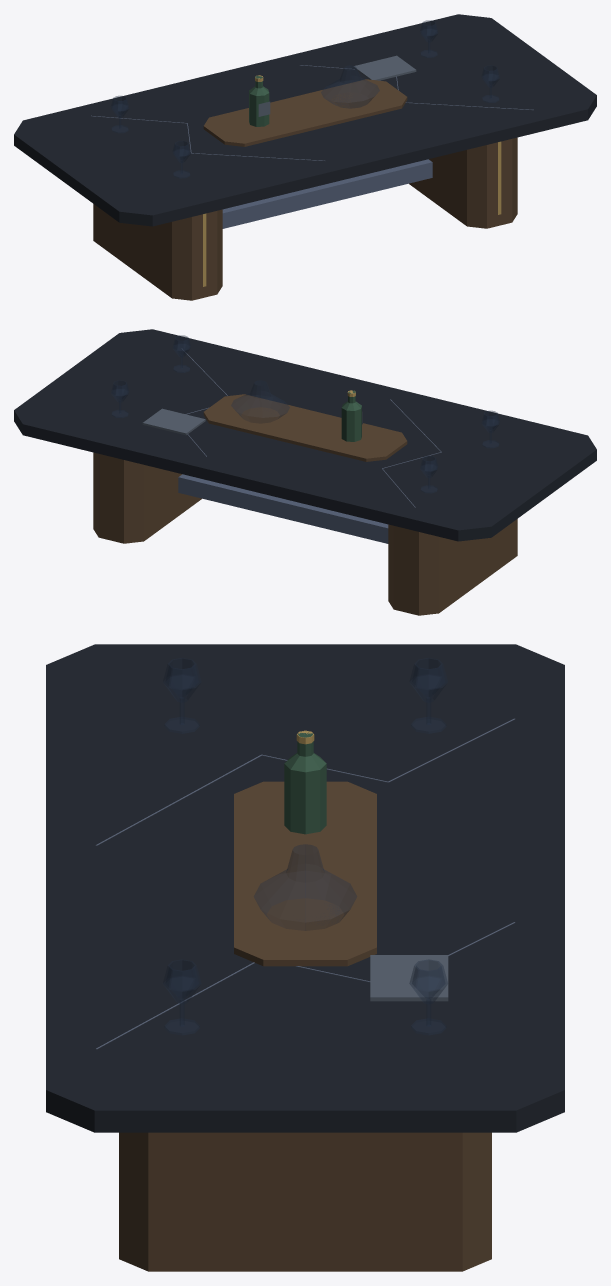
The model's file is res_tasting_island.glb.
3 renders of one model, top to bottom at view 1: azimuth 30°, elevation 25°; view 2: azimuth 150°, elevation 25°; view 3: azimuth 270°, elevation 25°, orthographic. The views are drawn at different scales.
Parts seen in each view (by area): view 1: tasting_counter, oak_serving_board, trestle_stretcher, glass_foot, book_binding, bottle, bottle_cap, fine_stone_vein; view 2: tasting_counter, oak_serving_board, trestle_stretcher, glass_foot, book_binding, bottle; view 3: tasting_counter, oak_serving_board, glass_foot, book_binding, bottle, fine_stone_vein.
Part boxes in pixels (x1,y1,x2,y2): tasting_counter: (14,14,596,226); oak_serving_board: (93,79,517,300); trestle_stretcher: (222,159,432,228); glass_foot: (111,20,499,178); book_binding: (258,55,416,116); bottle: (249,76,269,126); bottle_cap: (203,75,501,286); fine_stone_vein: (91,65,533,160); tasting_counter: (14,329,596,541); oak_serving_board: (93,394,517,615); trestle_stretcher: (178,474,388,543); glass_foot: (111,335,499,493); book_binding: (142,408,362,435); bottle: (341,390,361,441); tasting_counter: (46,644,564,1132); oak_serving_board: (119,781,491,1271); glass_foot: (163,658,447,1035); book_binding: (370,955,448,1001); bottle: (284,731,326,834); fine_stone_vein: (95,718,515,1049).
Size of the model in its own units: 3.4 by 1.1 by 1.6.
